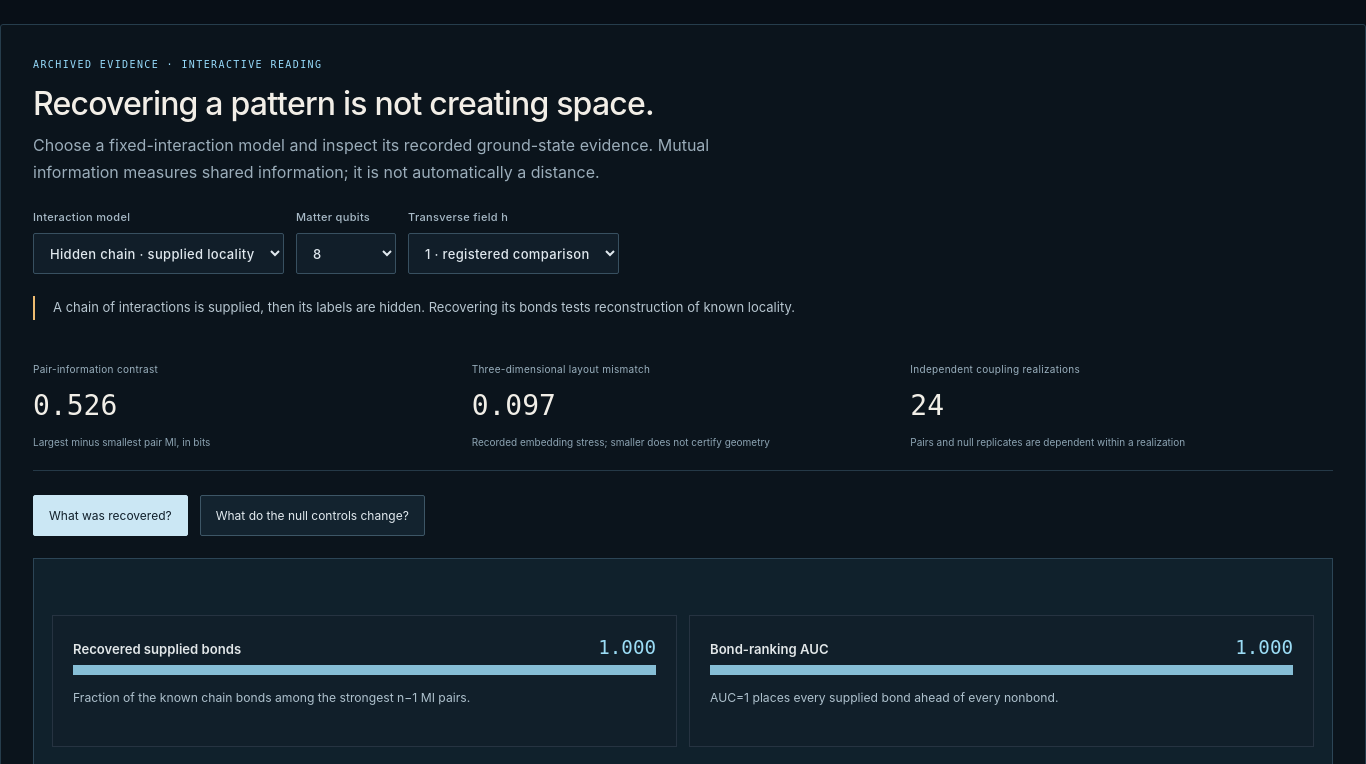
Scenario: archived quantum evidence interactions › retains physical-null failures and bootstrap undercoverage
The width and height of the screenshot is (1366, 764).
Expected: the element named "Recovered supplied bonds" is shown, [73, 660, 656, 680]
Step 1. Select "B · random all-to-all" in the dropdown named "Quantum interaction model" → (158, 254), box [33, 233, 284, 274]
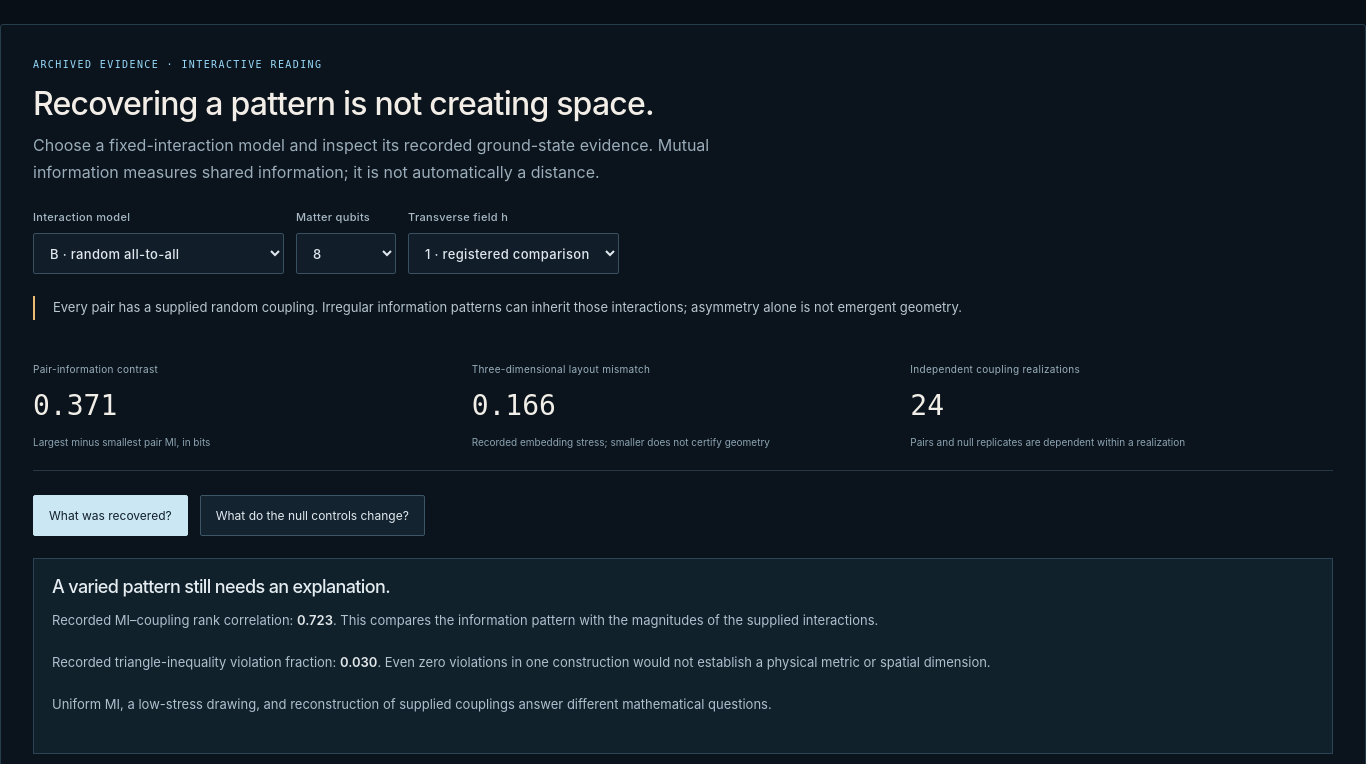
Step 2. Select "6" in the dropdown named "Quantum system size" → (346, 254), box [296, 233, 396, 274]
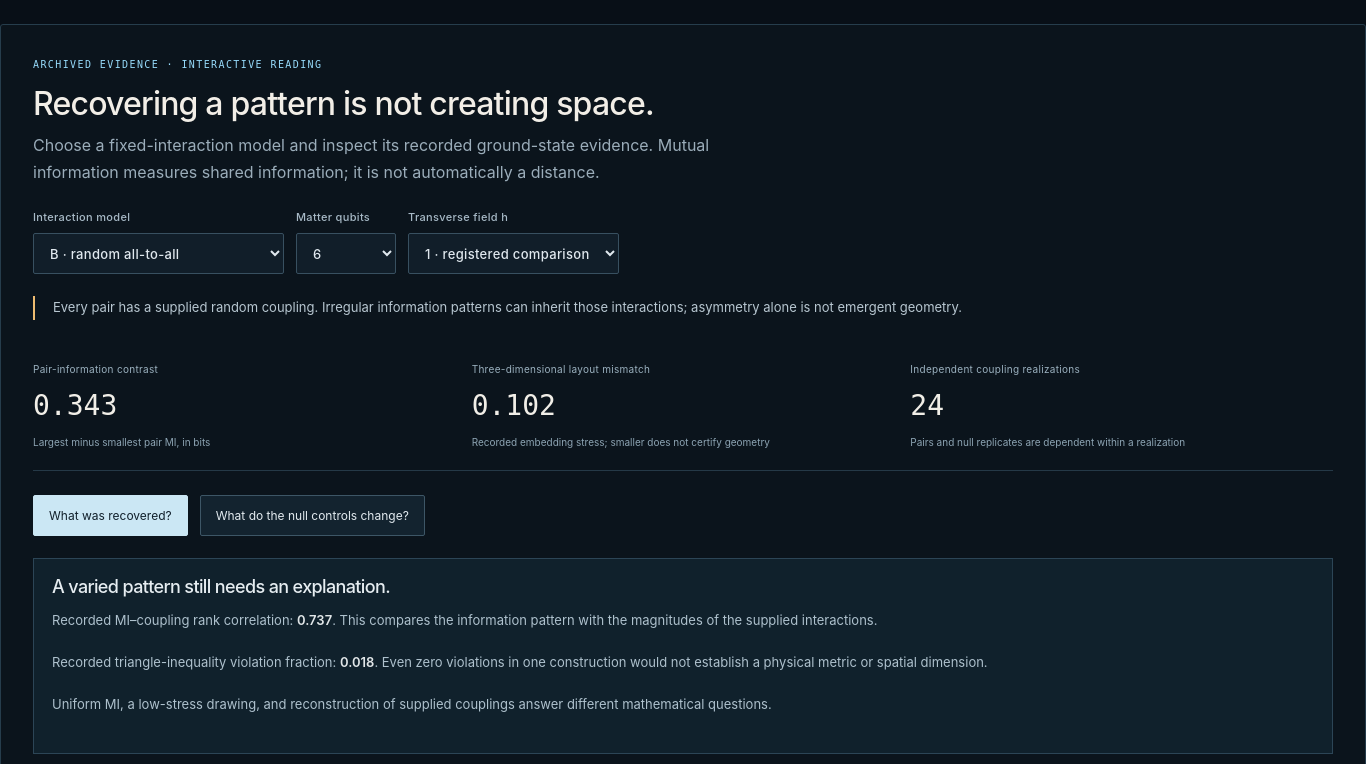
Step 3. Click the button "What do the null controls change?" → (312, 515), box [200, 495, 425, 536]
(page scrolled)
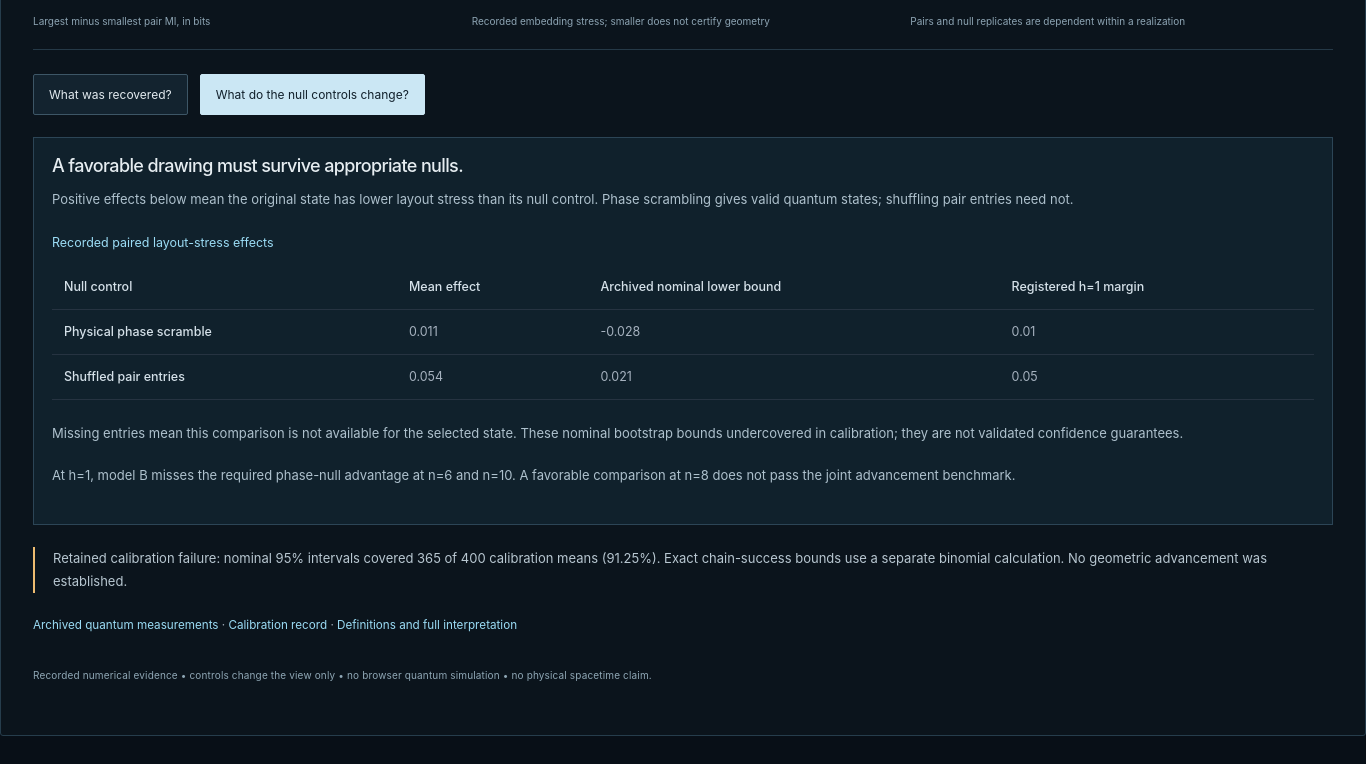
Now the table "Recorded paired layout-stress effects" is shown, box [52, 233, 1314, 400]
Now the text "model B misses the required phase-null advantage at n=6 and n=10" is shown, box [52, 467, 1016, 483]
Now the text "not validated confidence guarantees" is shown, box [52, 425, 1183, 441]
